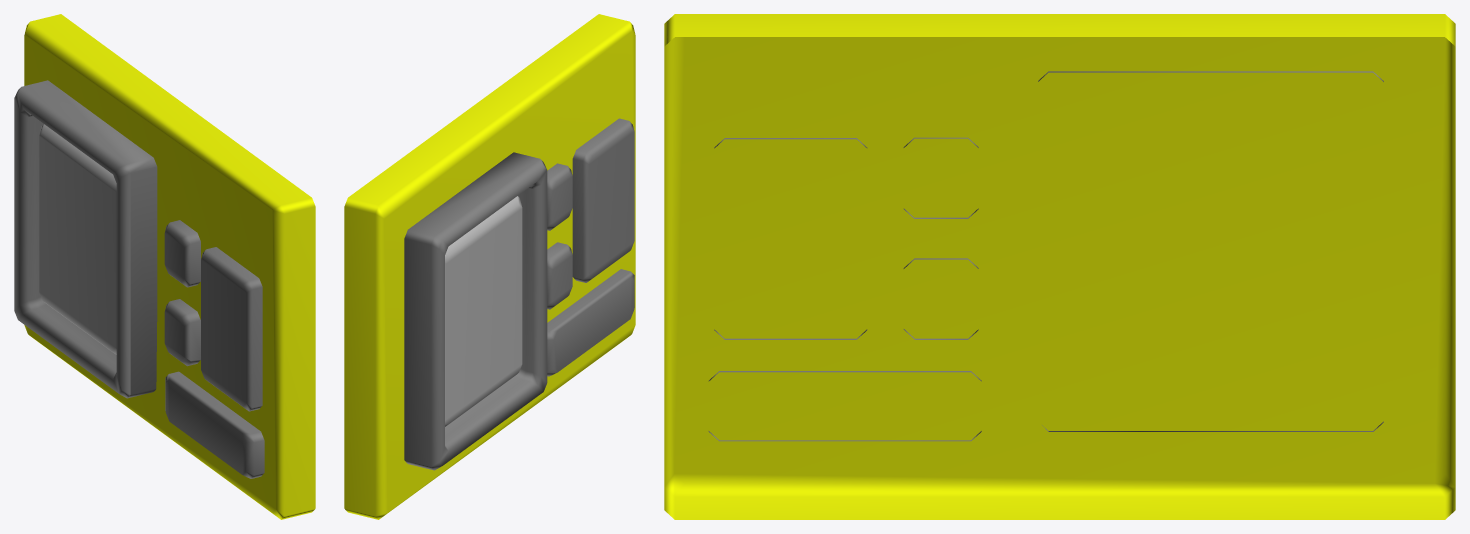
Rendered from Button_console.FBX.
3 renders of one model, left to right at view 1: azimuth 30°, elevation 25°; view 2: azimuth 150°, elevation 25°; view 3: azimuth 270°, elevation 25°, orthographic. The views are drawn at different scales.
Parts seen in each view (by area): view 1: Box009; view 2: Box009; view 3: Box009.
Part boxes in pixels (bbox=[...]): Box009: bbox=[14, 14, 315, 519]; Box009: bbox=[344, 14, 635, 519]; Box009: bbox=[664, 14, 1455, 519].
Bounding box in the file's own units: 0.2105 × 0.9174 × 1.36.
